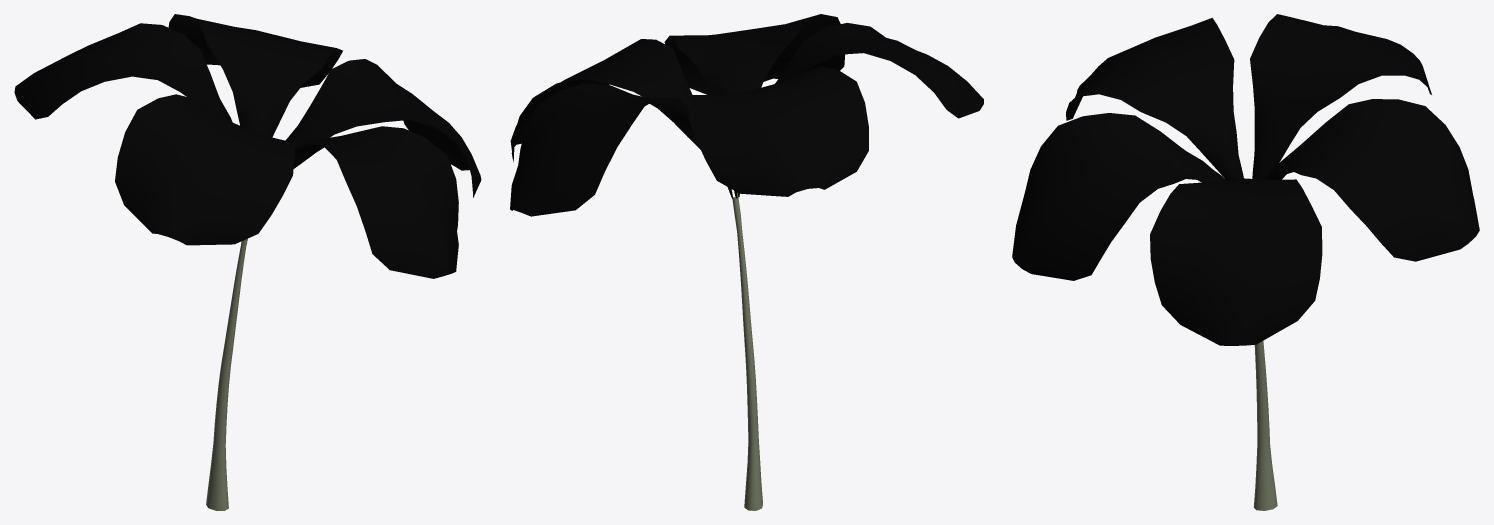
Rendered from flower_1.fbx.
3 renders of one model, left to right at view 1: azimuth 30°, elevation 25°; view 2: azimuth 150°, elevation 25°; view 3: azimuth 270°, elevation 25°, orthographic. The views are drawn at different scales.
Visible parts, largest first — view 1: irisBlue1Flower, irisBlue1Main; view 2: irisBlue1Flower, irisBlue1Main; view 3: irisBlue1Flower, irisBlue1Main.
Boxes of the visible parts, x1,y1,x2,y2 form: irisBlue1Flower: (14,14,481,278); irisBlue1Main: (206,238,247,510); irisBlue1Flower: (510,14,983,216); irisBlue1Main: (732,196,762,510); irisBlue1Flower: (1012,14,1479,345); irisBlue1Main: (1253,341,1277,510).
Size of the model in its own units: 1.06 by 1.16 by 1.1.
